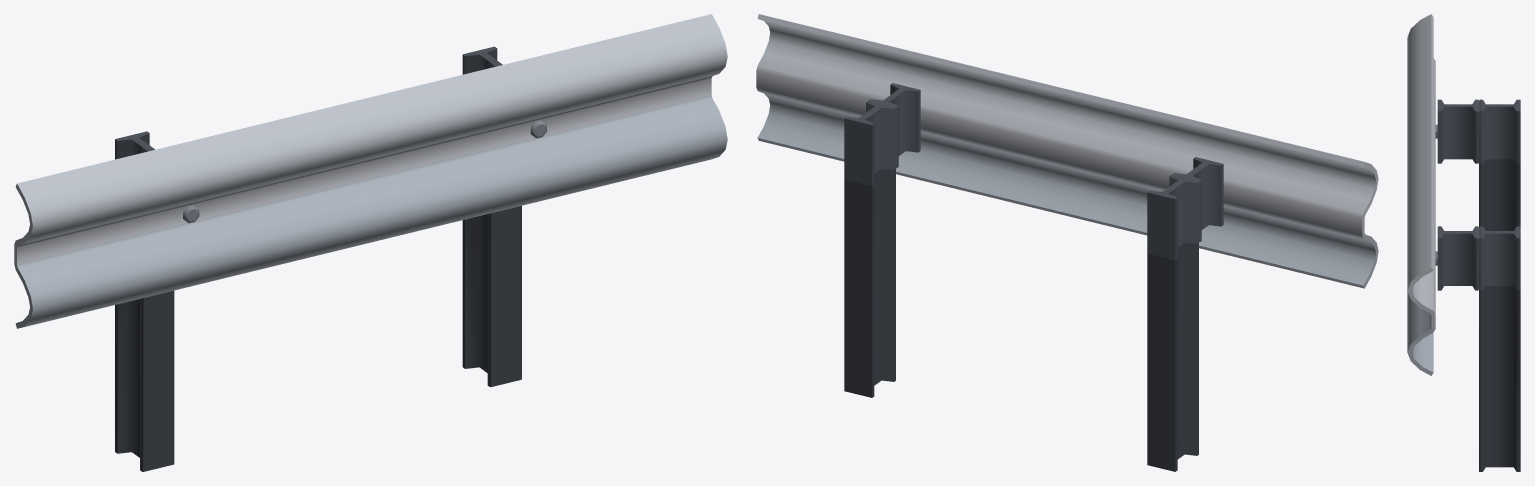
File: defensa_metalica_pacote.glb
The picture shows the model from 3 angles, left to right: view 1: azimuth 30°, elevation 25°; view 2: azimuth 150°, elevation 25°; view 3: azimuth 270°, elevation 25°; orthographic projection. The views are drawn at different scales.
Parts seen in each view (by area): view 1: defensa_metalica_pacote; view 2: defensa_metalica_pacote; view 3: defensa_metalica_pacote.
Part boxes in pixels (box(x1,y1,x2,y2)): defensa_metalica_pacote: box(14, 14, 727, 471); defensa_metalica_pacote: box(756, 14, 1378, 471); defensa_metalica_pacote: box(1407, 14, 1520, 471).
Bounding box in the file's own units: 2.5 × 1.21 × 0.4712.
1 material, 1 textured.
